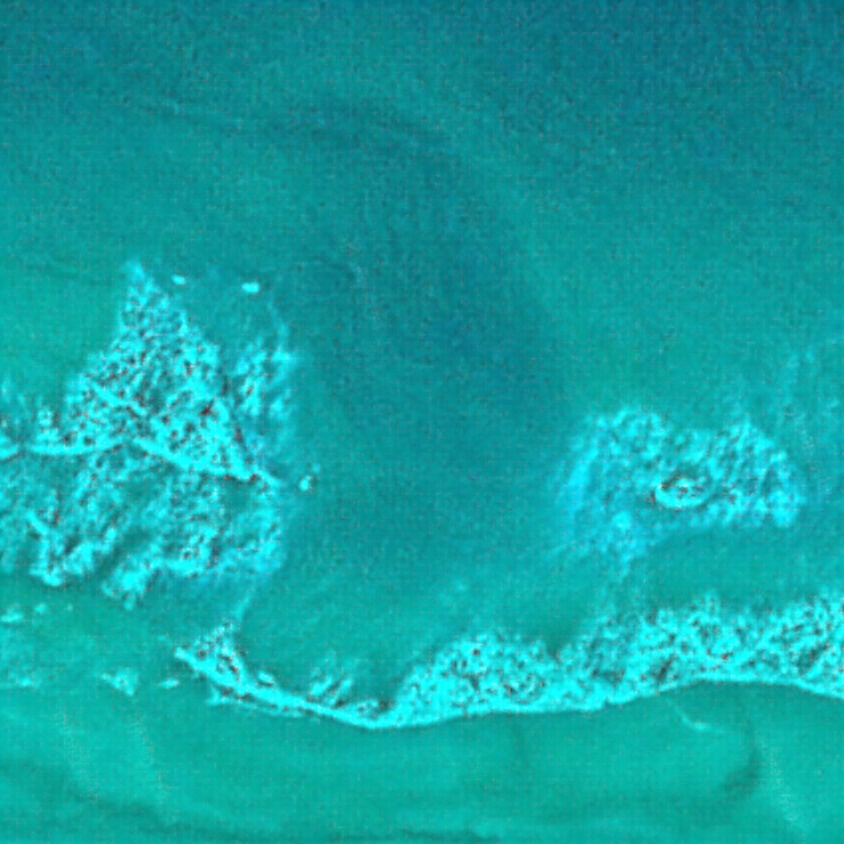rip_current: (223, 159, 607, 630)
